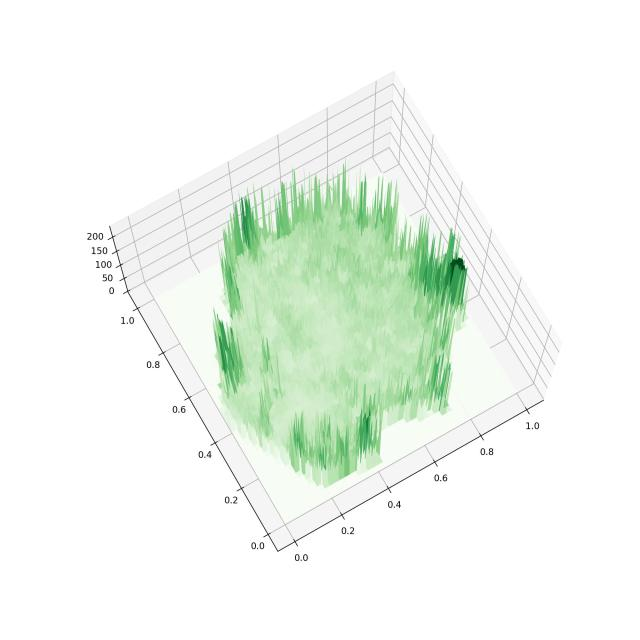fir: (63, 48, 579, 576)
